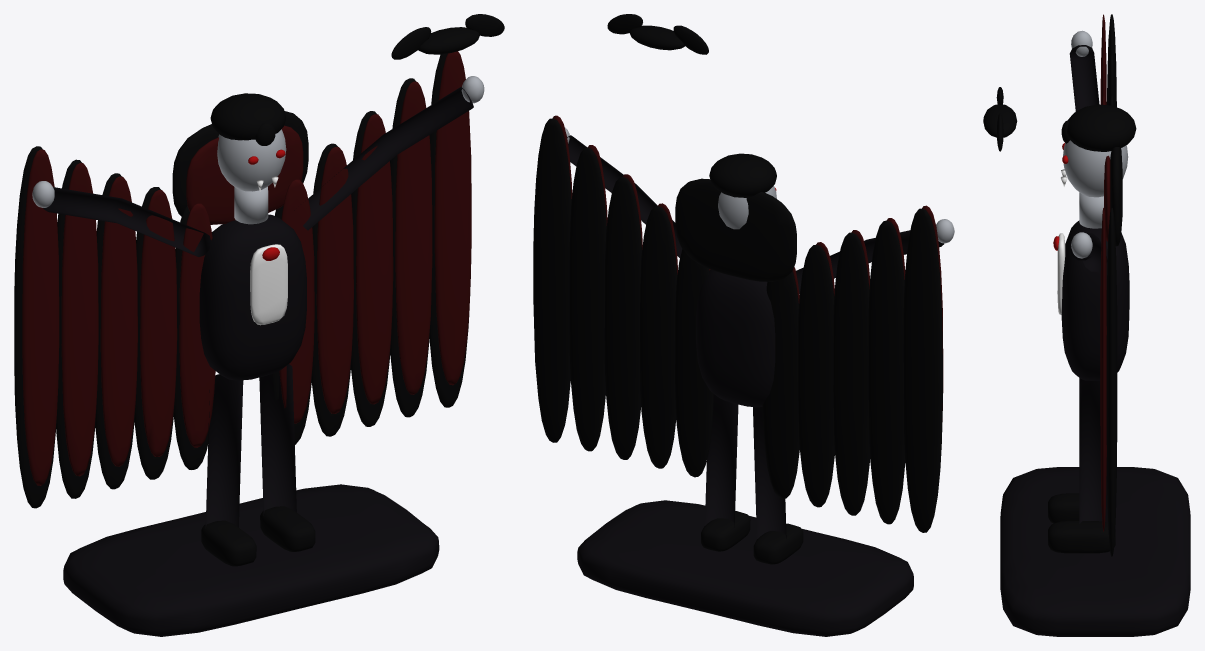
The model's file is MaulingTimeVampire.fbx.
The picture shows the model from 3 angles, left to right: view 1: azimuth 30°, elevation 25°; view 2: azimuth 150°, elevation 25°; view 3: azimuth 270°, elevation 25°; orthographic projection. The views are drawn at different scales.
Parts seen in each view (by area): view 1: MaulingTimeVampire; view 2: MaulingTimeVampire; view 3: MaulingTimeVampire.
Boxes of the visible parts, x1,y1,x2,y2 form: MaulingTimeVampire: (14, 14, 504, 636); MaulingTimeVampire: (533, 14, 954, 636); MaulingTimeVampire: (983, 14, 1190, 636).
Bounding box in the file's own units: 3.72 × 4.35 × 1.52.
Materials: 1 (1 with a texture image).
